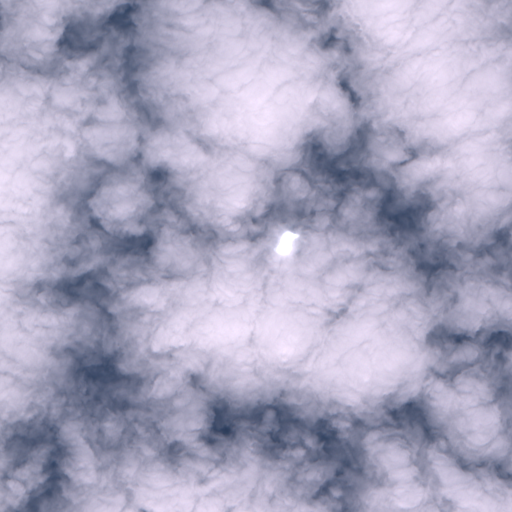Iceberg: (276, 231, 299, 254)
